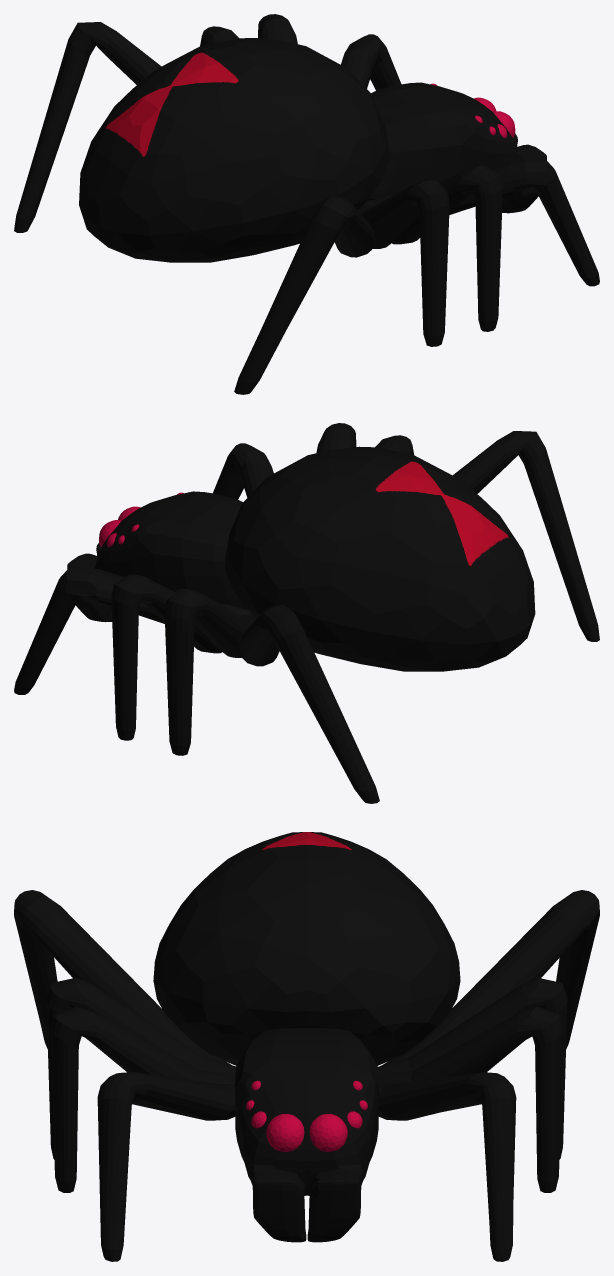
The model's file is spider_modapplied.glb.
The picture shows the model from 3 angles, top to bottom: view 1: azimuth 30°, elevation 25°; view 2: azimuth 150°, elevation 25°; view 3: azimuth 270°, elevation 25°; orthographic projection. The views are drawn at different scales.
Parts seen in each view (by area): view 1: abdomen, back legs, head, leg3, front legs, legs2; view 2: abdomen, back legs, head, leg3, front legs, legs2; view 3: abdomen, head, front legs, back legs, legs2, leg3, Eye1.
Part boxes in pixels (bbox=[...]): abdomen: bbox=[79, 38, 389, 262]; back legs: bbox=[14, 22, 375, 394]; head: bbox=[367, 82, 546, 213]; leg3: bbox=[200, 26, 449, 346]; front legs: bbox=[341, 34, 599, 286]; legs2: bbox=[258, 14, 502, 331]; abdomen: bbox=[224, 446, 535, 671]; back legs: bbox=[239, 431, 599, 803]; head: bbox=[67, 491, 246, 622]; leg3: bbox=[164, 435, 413, 755]; front legs: bbox=[14, 443, 273, 694]; legs2: bbox=[111, 423, 356, 740]; abdomen: bbox=[153, 832, 460, 1065]; head: bbox=[235, 1028, 378, 1242]; front legs: bbox=[97, 1072, 516, 1261]; back legs: bbox=[14, 890, 599, 1065]; legs2: bbox=[50, 1006, 563, 1192]; leg3: bbox=[46, 977, 567, 1159]; Eye1: bbox=[266, 1113, 347, 1151].
Size of the model in its own units: 2.99 by 1.51 by 3.1.
Materials: 11 (11 with a texture image).
